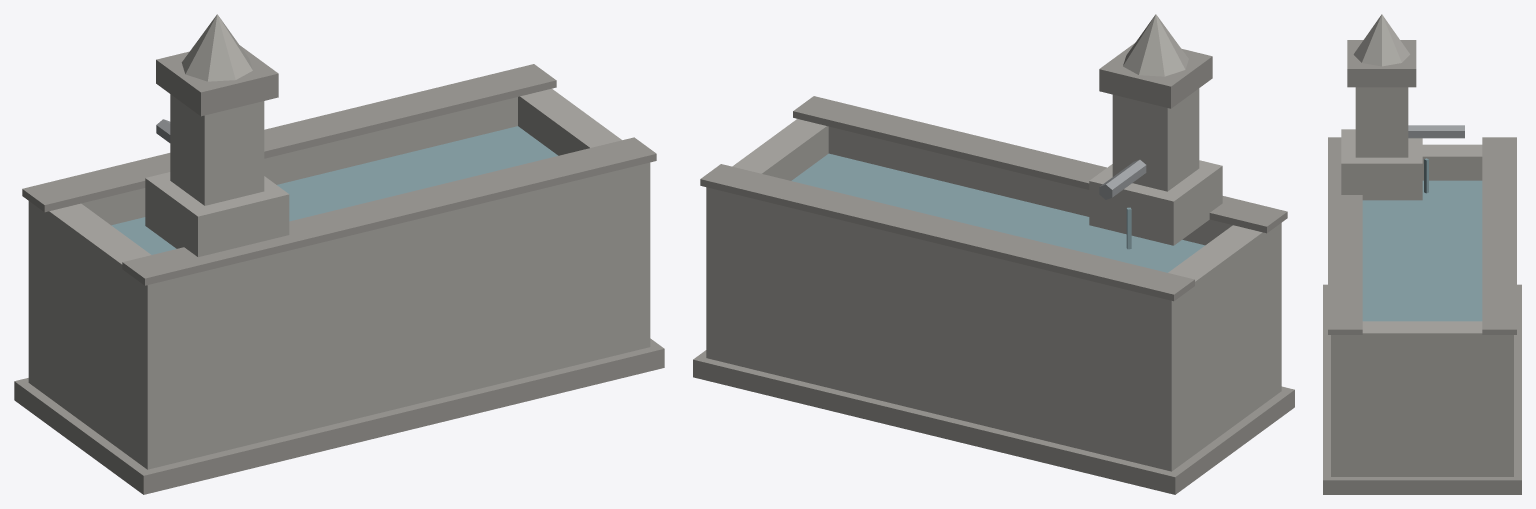
File: fountain_trough.glb
3 views of the same model, side by side, from view 1: azimuth 30°, elevation 25°; view 2: azimuth 150°, elevation 25°; view 3: azimuth 270°, elevation 25° (orthographic). The views are drawn at different scales.
Bounding box in the file's own units: 2.28 × 1.78 × 0.98.
